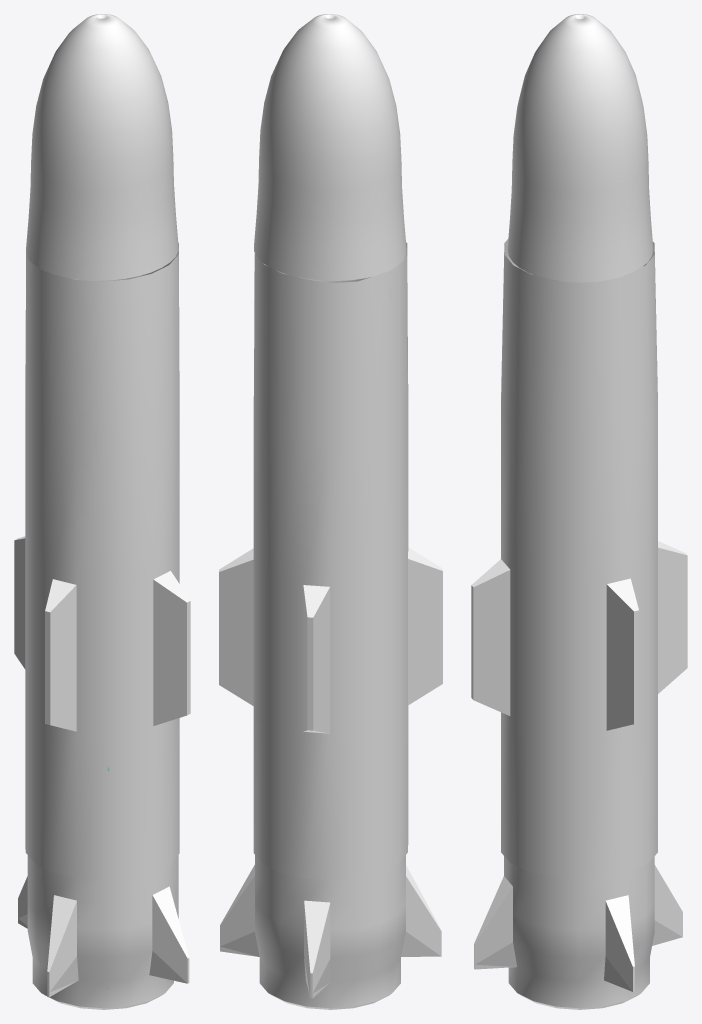
Rendered from rakieta2.obj.
The picture shows the model from 3 angles, left to right: view 1: azimuth 30°, elevation 25°; view 2: azimuth 150°, elevation 25°; view 3: azimuth 270°, elevation 25°; orthographic projection.
Visible parts, largest first — view 1: Cylinder01, Line01; view 2: Cylinder01, Line01; view 3: Cylinder01, Line01.
Boxes of the visible parts, left/top/right/bottom form: Cylinder01: left=14, top=18, right=190, bottom=1009; Line01: left=26, top=14, right=178, bottom=280; Cylinder01: left=219, top=17, right=442, bottom=1009; Line01: left=254, top=14, right=406, bottom=280; Cylinder01: left=471, top=18, right=687, bottom=1009; Line01: left=507, top=14, right=653, bottom=282.
Bounding box in the file's own units: 35.01 × 191 × 38.74.
1 material, 1 textured.
